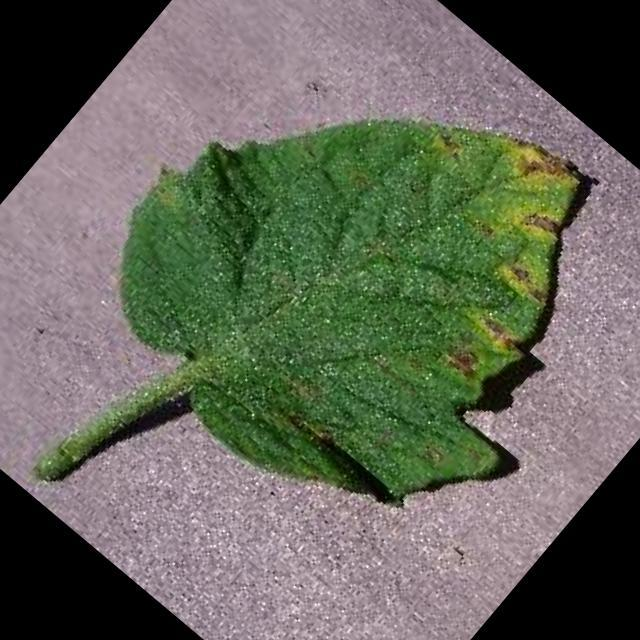Tomato Septoria spot leaf: (49, 0, 640, 592)
